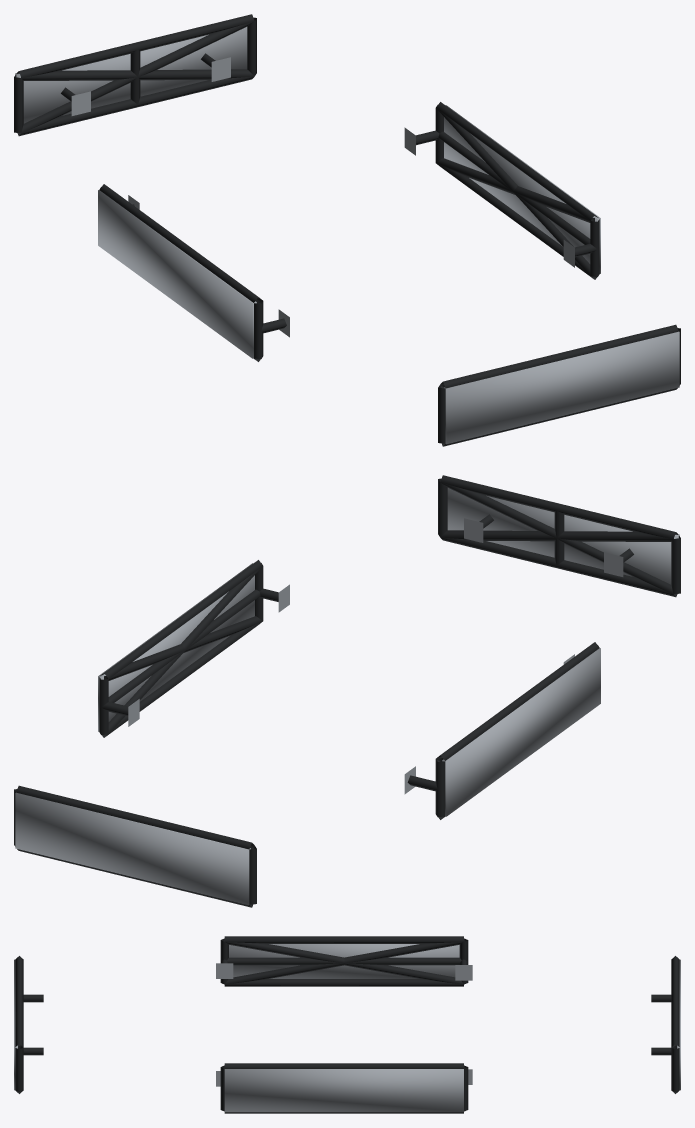
Rendered from feldhaus_palheta_protecao.glb.
The picture shows the model from 3 angles, top to bottom: view 1: azimuth 30°, elevation 25°; view 2: azimuth 150°, elevation 25°; view 3: azimuth 270°, elevation 25°; orthographic projection. The views are drawn at different scales.
Parts seen in each view (by area): view 1: Protection_front_Level3_Details, Protection_left_Level3_Details, Protection_rear_Level1_Details, Protection_rear_Level3_Details, Protection_right_Level1_Details, Protection_rear_Level2_Details, Protection_right_Level2_Details, Protection_right_Level3_Details, Protection_front_Level1_Details, Protection_left_Level1_Details; view 2: Protection_rear_Level3_Details, Protection_left_Level3_Details, Protection_front_Level1_Details, Protection_front_Level3_Details, Protection_right_Level1_Details, Protection_front_Level2_Details, Protection_right_Level2_Details, Protection_right_Level3_Details, Protection_rear_Level1_Details, Protection_left_Level1_Details; view 3: Protection_right_Level3_Details, Protection_left_Level2_Details, Protection_left_Level1_Details, Protection_left_Level3_Details, Protection_right_Level1_Details, Protection_rear_Level1_Details, Protection_front_Level1_Details.
Boxes of the visible parts, x1=… form: Protection_front_Level3_Details: x1=444, y1=331, x2=679, y2=444; Protection_left_Level3_Details: x1=98, y1=190, x2=256, y2=358; Protection_rear_Level1_Details: x1=14, y1=14, x2=256, y2=136; Protection_rear_Level3_Details: x1=15, y1=27, x2=247, y2=123; Protection_right_Level1_Details: x1=404, y1=102, x2=599, y2=279; Protection_rear_Level2_Details: x1=16, y1=21, x2=254, y2=135; Protection_right_Level2_Details: x1=436, y1=108, x2=598, y2=279; Protection_right_Level3_Details: x1=444, y1=105, x2=600, y2=273; Protection_front_Level1_Details: x1=438, y1=324, x2=680, y2=446; Protection_left_Level1_Details: x1=99, y1=184, x2=289, y2=361; Protection_rear_Level3_Details: x1=15, y1=792, x2=250, y2=905; Protection_left_Level3_Details: x1=442, y1=648, x2=600, y2=816; Protection_front_Level1_Details: x1=438, y1=475, x2=680, y2=597; Protection_front_Level3_Details: x1=447, y1=488, x2=679, y2=584; Protection_right_Level1_Details: x1=99, y1=560, x2=289, y2=737; Protection_front_Level2_Details: x1=440, y1=482, x2=678, y2=596; Protection_right_Level2_Details: x1=100, y1=567, x2=262, y2=737; Protection_right_Level3_Details: x1=98, y1=563, x2=254, y2=731; Protection_rear_Level1_Details: x1=14, y1=785, x2=256, y2=907; Protection_left_Level1_Details: x1=404, y1=642, x2=599, y2=819; Protection_right_Level3_Details: x1=224, y1=1069, x2=463, y2=1112; Protection_left_Level2_Details: x1=224, y1=940, x2=464, y2=984; Protection_left_Level1_Details: x1=216, y1=936, x2=472, y2=986; Protection_left_Level3_Details: x1=229, y1=944, x2=459, y2=978; Protection_right_Level1_Details: x1=216, y1=1063, x2=472, y2=1113; Protection_rear_Level1_Details: x1=651, y1=956, x2=679, y2=1093; Protection_front_Level1_Details: x1=15, y1=956, x2=43, y2=1093.
Size of the model in its own units: 1.98 by 0.354 by 4.24.
Materials: 1 (1 with a texture image).
